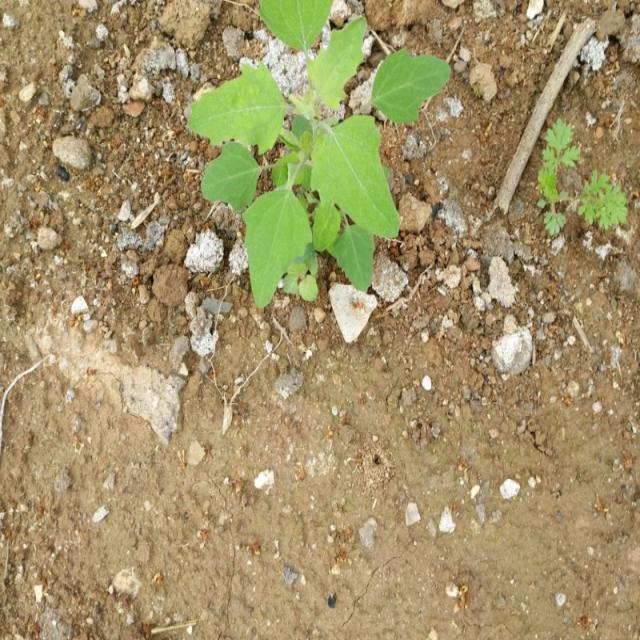ca: (186, 0, 451, 311)
